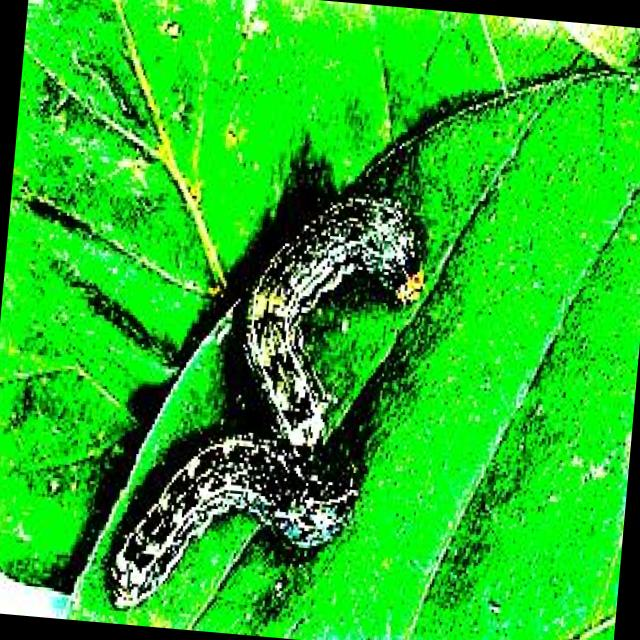Armyworm: (212, 173, 456, 456), (89, 397, 385, 630)
